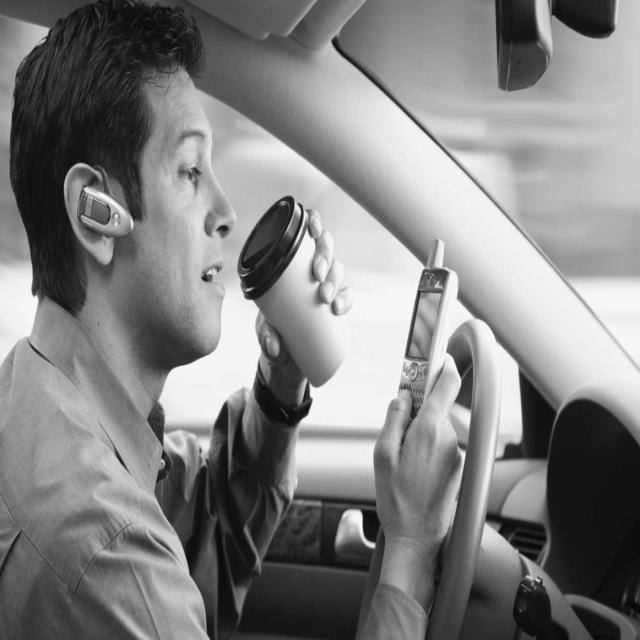Drinking: (220, 170, 368, 423)
Phone: (386, 231, 467, 472)
